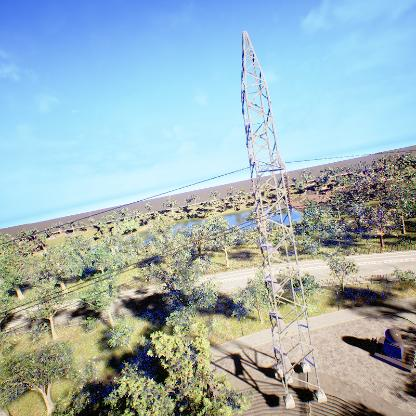tower: (225, 22, 327, 407)
